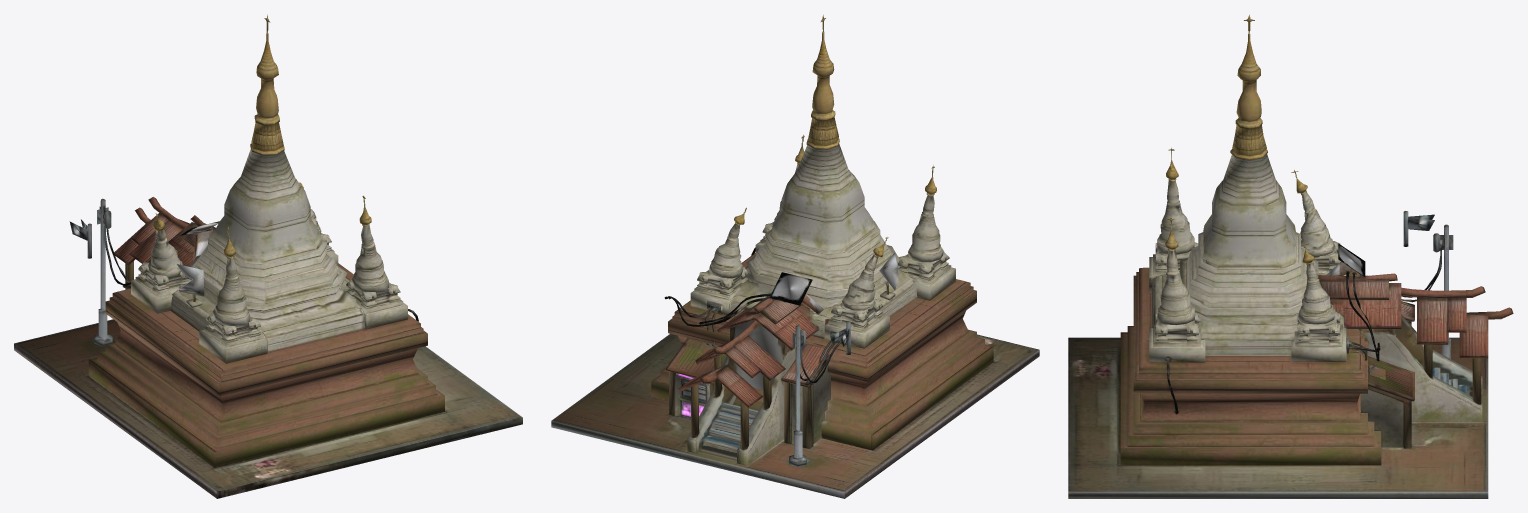
File: burmese_pagoda.glb
The picture shows the model from 3 angles, left to right: view 1: azimuth 30°, elevation 25°; view 2: azimuth 150°, elevation 25°; view 3: azimuth 270°, elevation 25°; orthographic projection. The views are drawn at different scales.
Visible parts, largest first — view 1: Body; view 2: Body; view 3: Body.
Part boxes in pixels (x1,y1,x2,y2): Body: (14,14,522,498); Body: (551,15,1039,498); Body: (1068,14,1513,498).
Size of the model in its own units: 16.53 by 20 by 20.16.
Materials: 2 (2 with a texture image).
